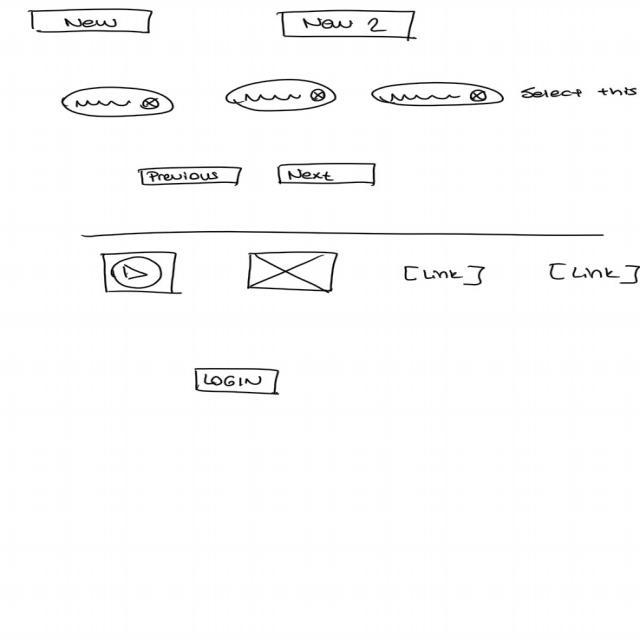button: (280, 10, 418, 42), (30, 9, 156, 35), (196, 368, 284, 396), (278, 162, 380, 186), (140, 166, 245, 188)
image: (246, 251, 342, 295)
label: (521, 86, 640, 103)
link: (403, 263, 487, 289), (550, 263, 640, 287)
